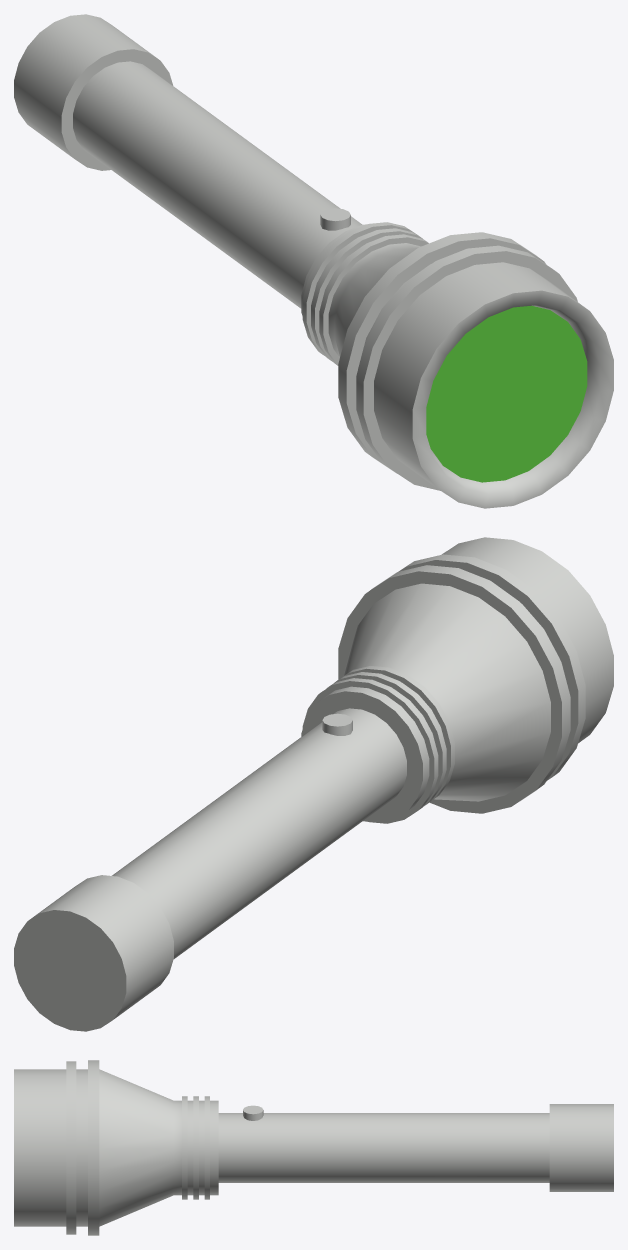
The model's file is Torch.fbx.
The picture shows the model from 3 angles, top to bottom: view 1: azimuth 30°, elevation 25°; view 2: azimuth 150°, elevation 25°; view 3: azimuth 270°, elevation 25°; orthographic projection. The views are drawn at different scales.
Parts seen in each view (by area): view 1: Torch; view 2: Torch; view 3: Torch.
Boxes of the visible parts, box(x1,y1,x2,y2) form: Torch: box(14, 14, 613, 508); Torch: box(14, 537, 613, 1031); Torch: box(14, 1060, 613, 1235).
Size of the model in its own units: 0.0896 by 0.0906 by 0.3076.
